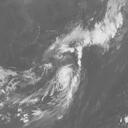cyclone: (53, 64, 82, 93)
